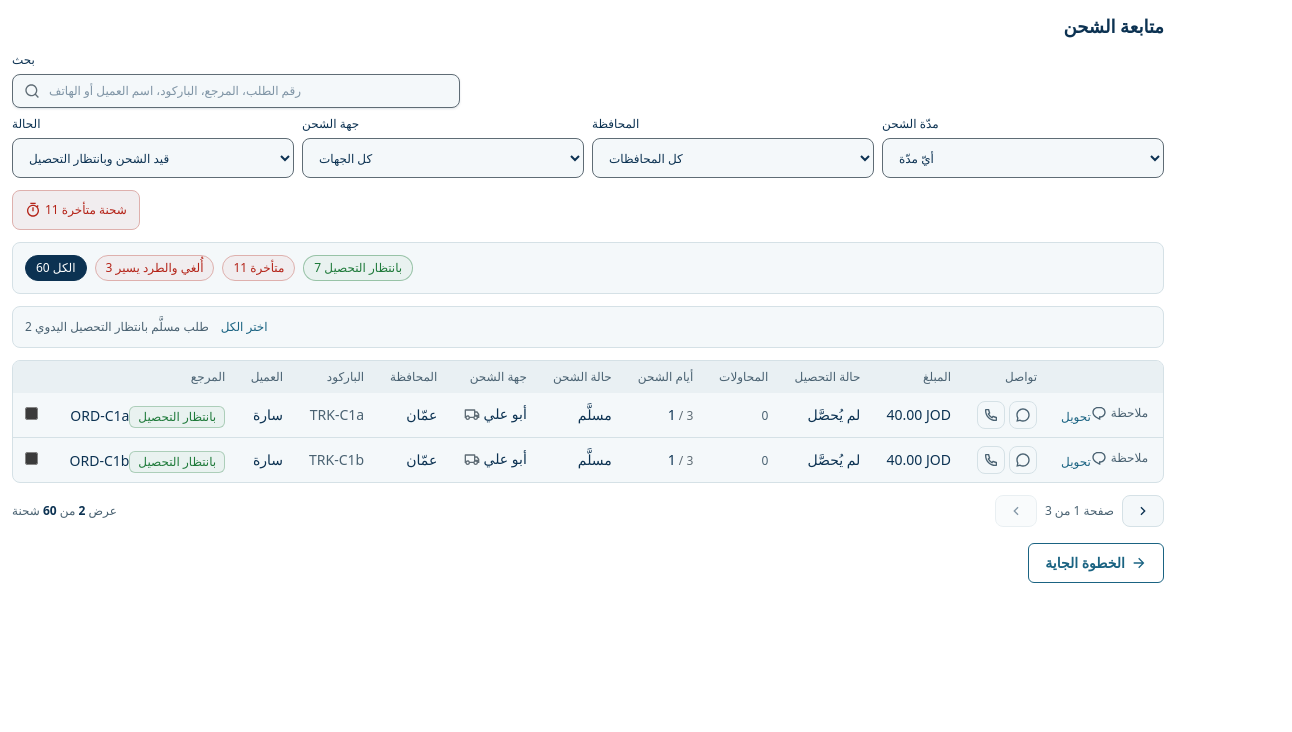
collecting by hand, on the page that is shown › and a new question starts a new selection — what was ticked was on a page that is not on screen any more
Expected: the dropdown labelled "جهة الشحن" is shown, [302, 138, 584, 178]
Click the button "اختر الكل": x=244, y=327 [221, 319, 268, 335]
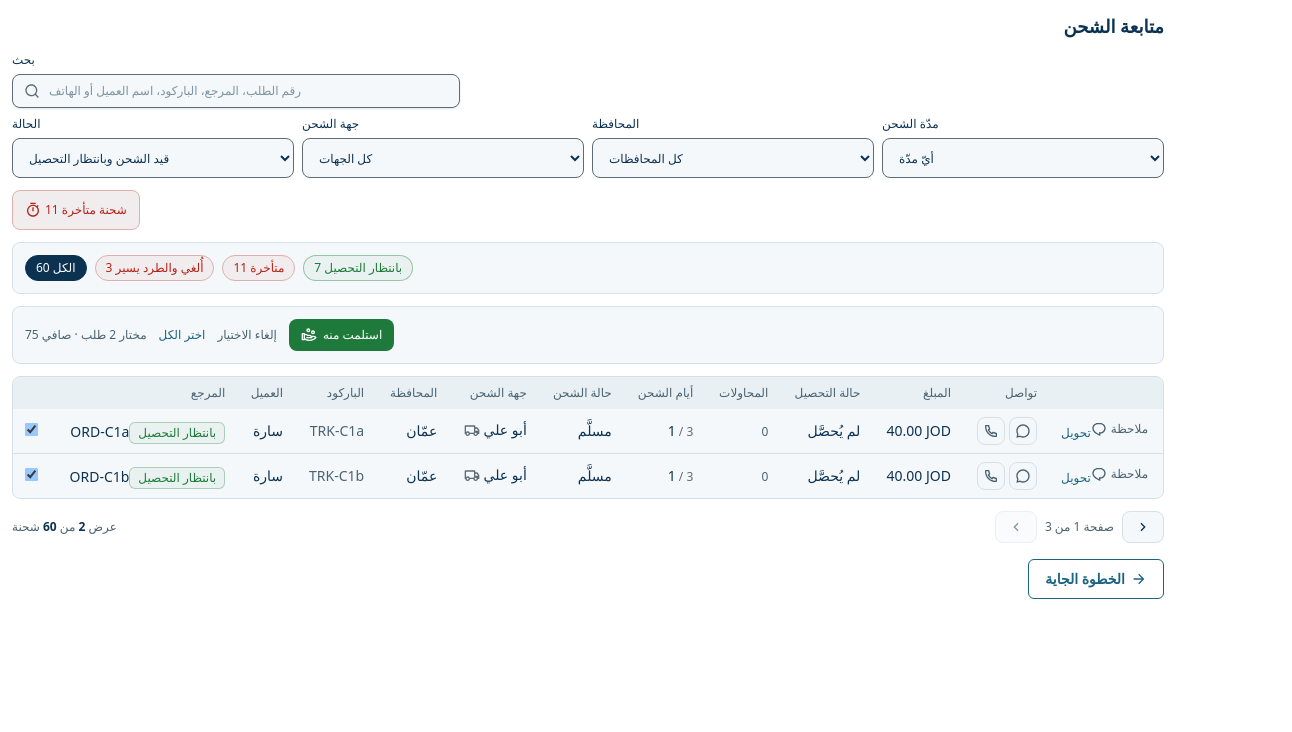
Expected: the text "مختار 2 طلب · صافي 75" is shown, [25, 327, 147, 343]
Click the button named "الصفحة التالية": x=1143, y=527 [1122, 511, 1164, 543]
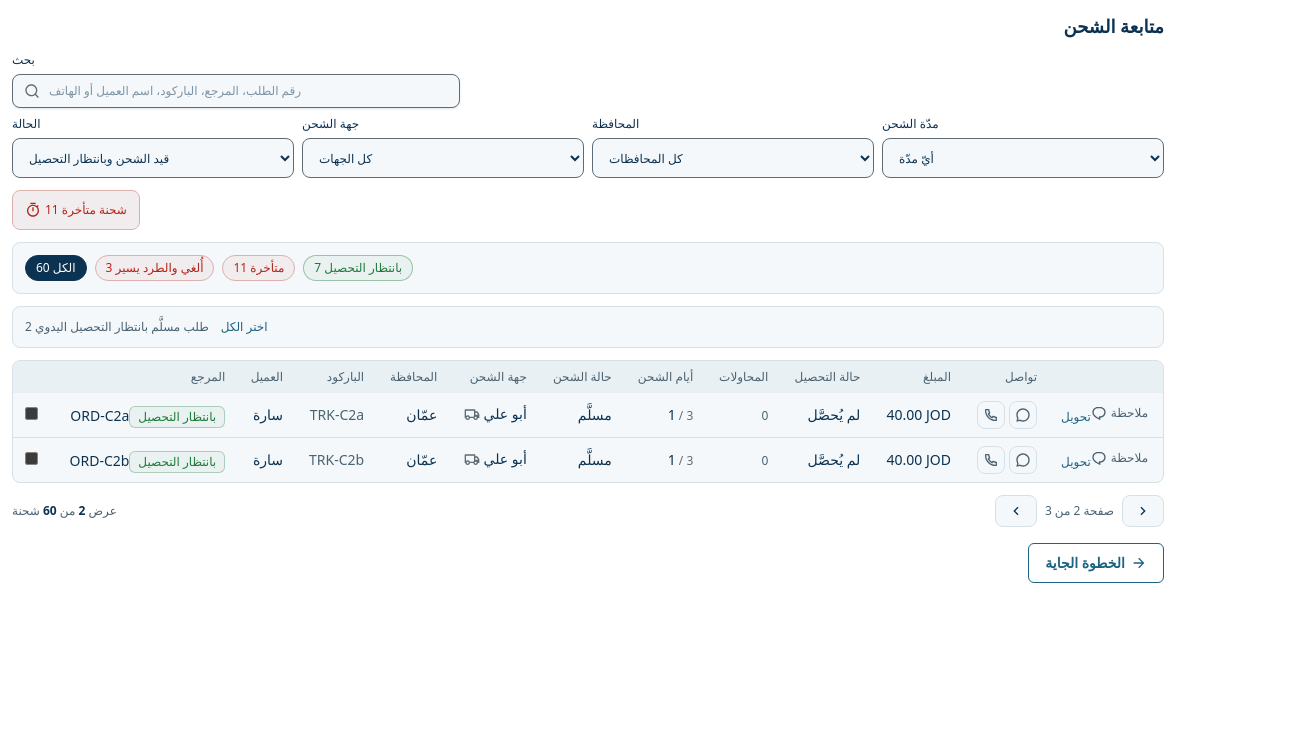
Expected: the text "مختار 2 طلب · صافي 75" is gone
Click the button "اختر الكل": x=244, y=327 [221, 319, 268, 335]
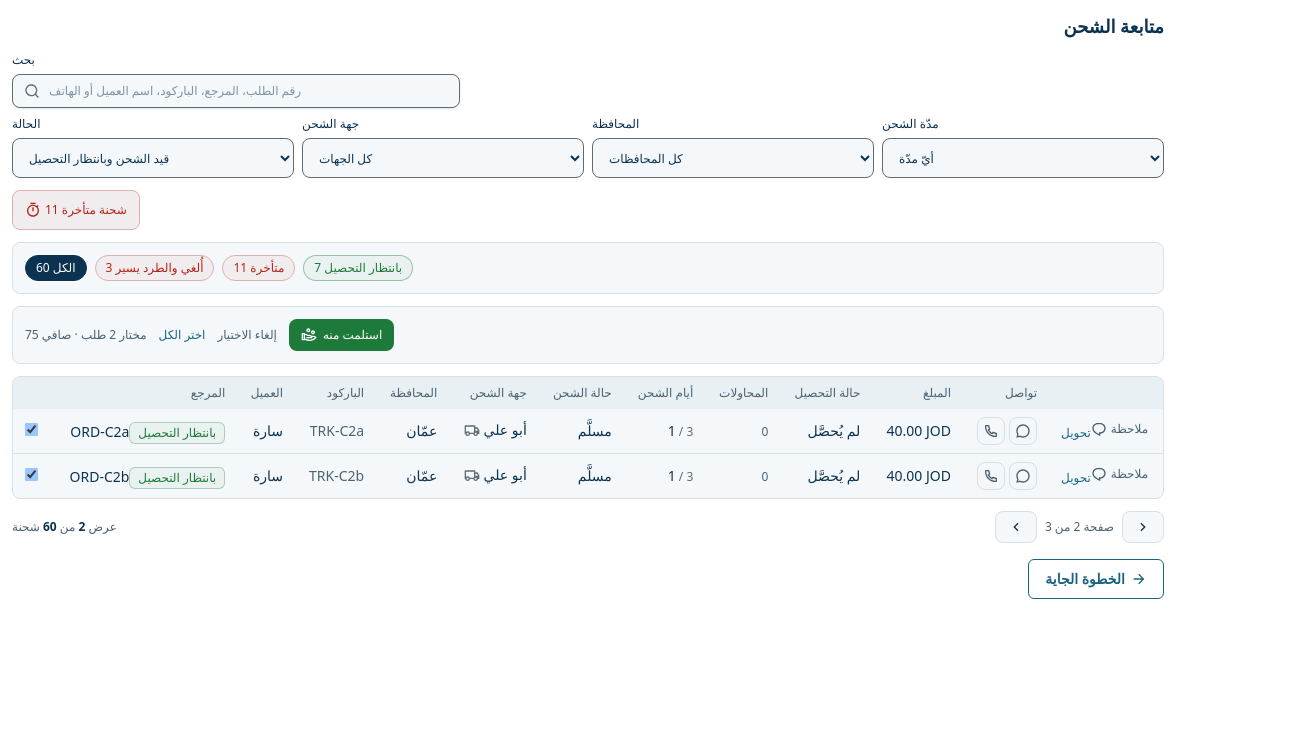
Select "أبو علي (40)" in the dropdown labelled "جهة الشحن": x=443, y=158 [302, 138, 584, 178]
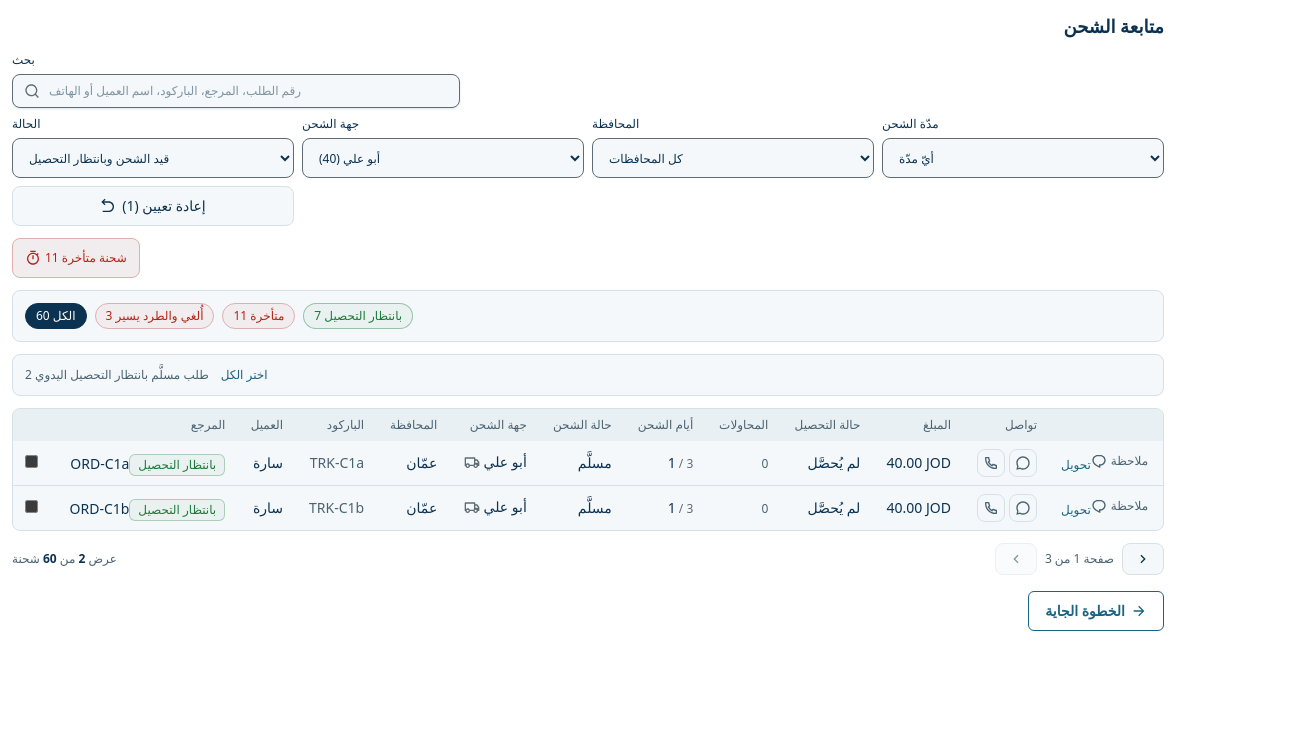
Expected: the text "مختار 2 طلب · صافي 75" is gone
